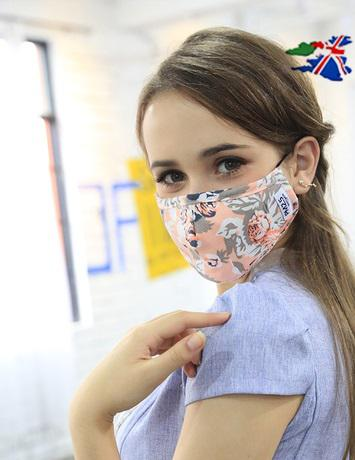OK: (157, 136, 299, 278)
